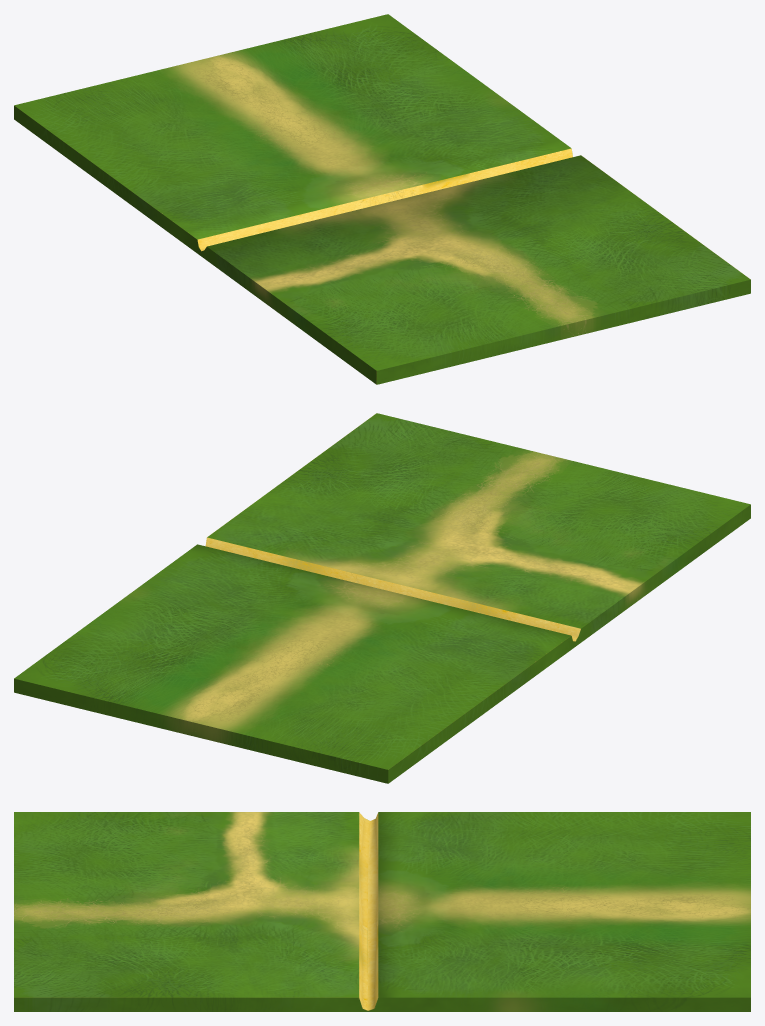
File: Ground.fbx
3 views of the same model, one above another, from view 1: azimuth 30°, elevation 25°; view 2: azimuth 150°, elevation 25°; view 3: azimuth 270°, elevation 25° (orthographic).
Visible parts, largest first — view 1: Ground; view 2: Ground; view 3: Ground.
Part boxes in pixels (x1,y1,x2,y2): Ground: [14, 14, 750, 384]; Ground: [14, 413, 750, 783]; Ground: [14, 812, 750, 1011].
Size of the model in its own units: 631 by 22.54 by 1060.
1 material, 1 textured.
